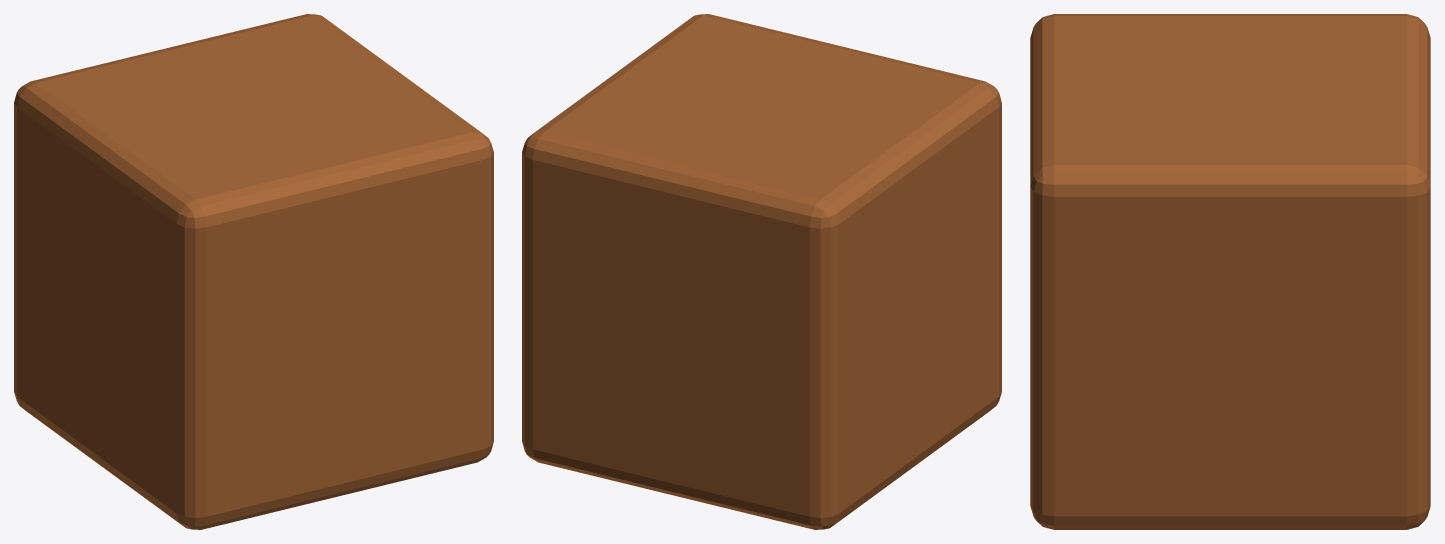
The model's file is wood_beam.glb.
The picture shows the model from 3 angles, left to right: view 1: azimuth 30°, elevation 25°; view 2: azimuth 150°, elevation 25°; view 3: azimuth 270°, elevation 25°; orthographic projection. The views are drawn at different scales.
Parts seen in each view (by area): view 1: WoodBeam; view 2: WoodBeam; view 3: WoodBeam.
Part boxes in pixels (x1,y1,x2,y2): WoodBeam: (14,14,493,529); WoodBeam: (522,14,1001,529); WoodBeam: (1030,14,1430,529).
Bounding box in the file's own units: 1 × 1 × 1.
